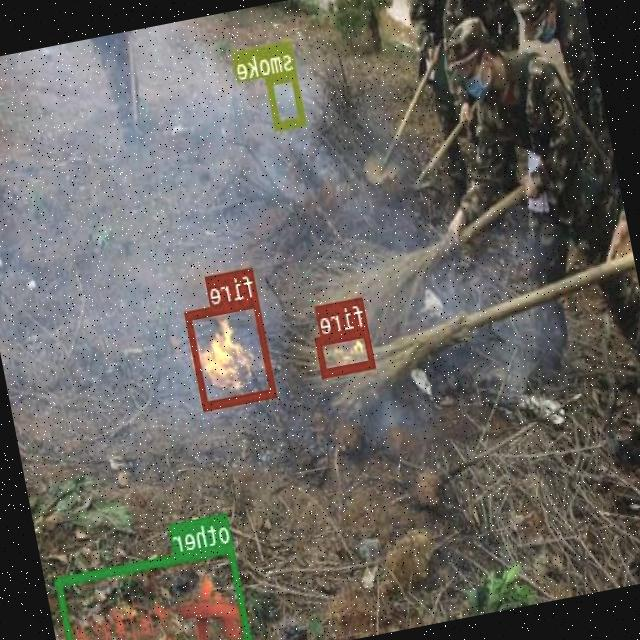fire: (185, 296, 278, 409), (316, 326, 377, 376)
smoke: (267, 70, 308, 128)
